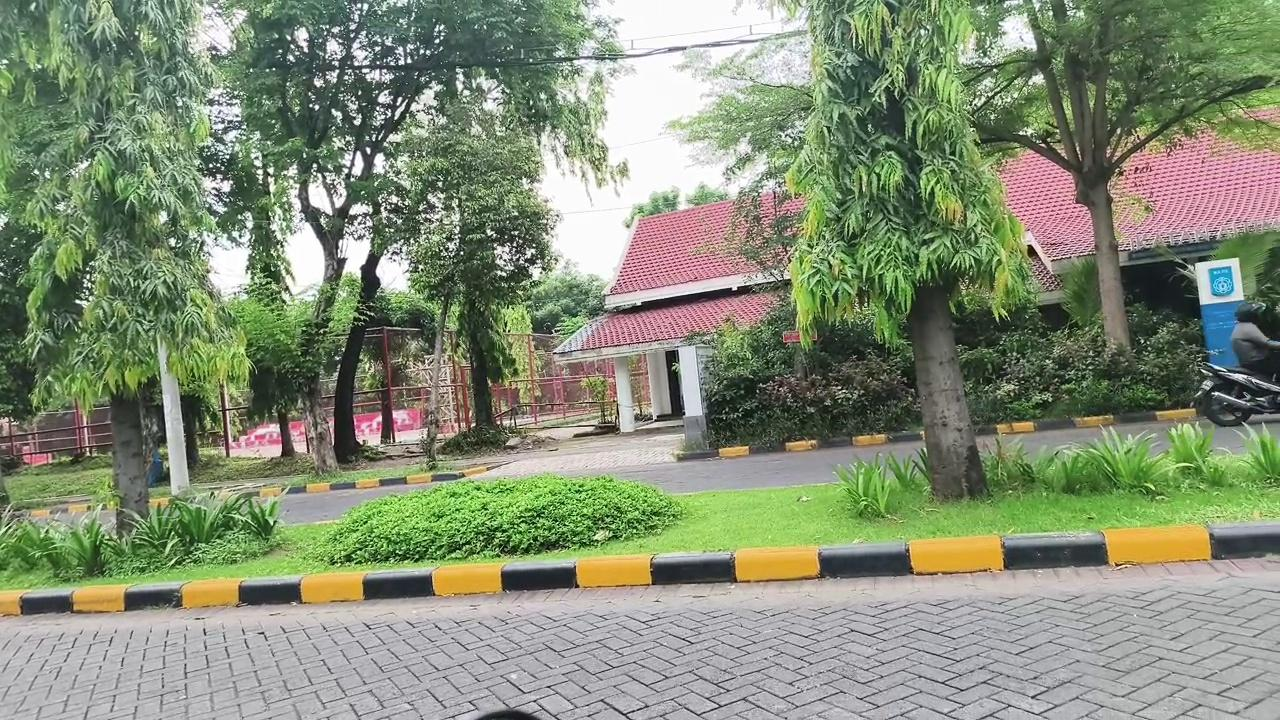Helmet: (1230, 302, 1279, 380)
Motor: (1196, 363, 1279, 426)
